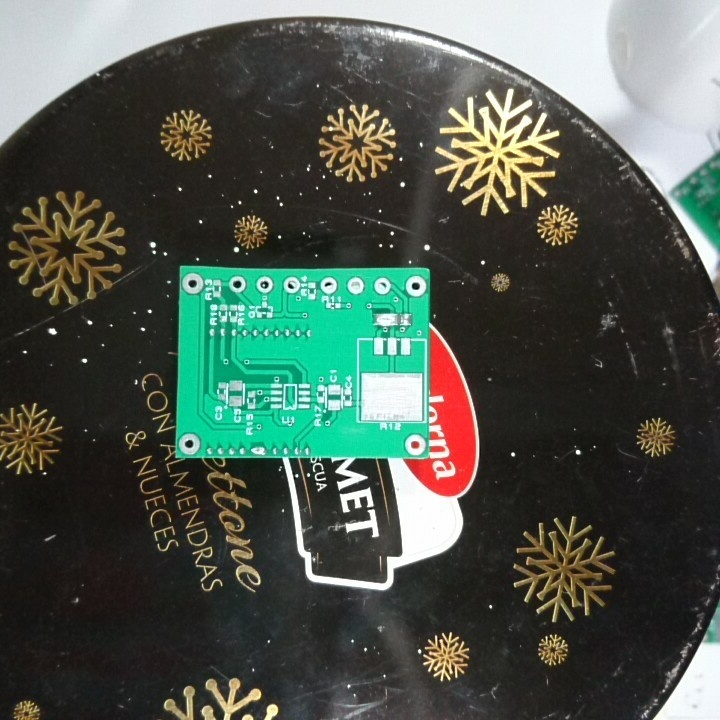F: (177, 431, 203, 456), (403, 432, 426, 458), (181, 272, 204, 296), (345, 275, 367, 298), (405, 274, 425, 299), (254, 274, 276, 295), (226, 275, 249, 295), (318, 275, 339, 296), (281, 275, 302, 296), (371, 275, 391, 297)
P: (370, 310, 399, 328), (249, 444, 268, 457)
